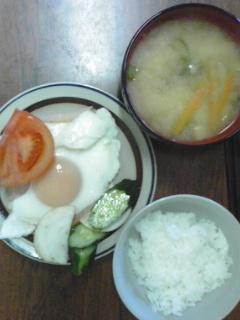rice: (128, 211, 232, 314)
